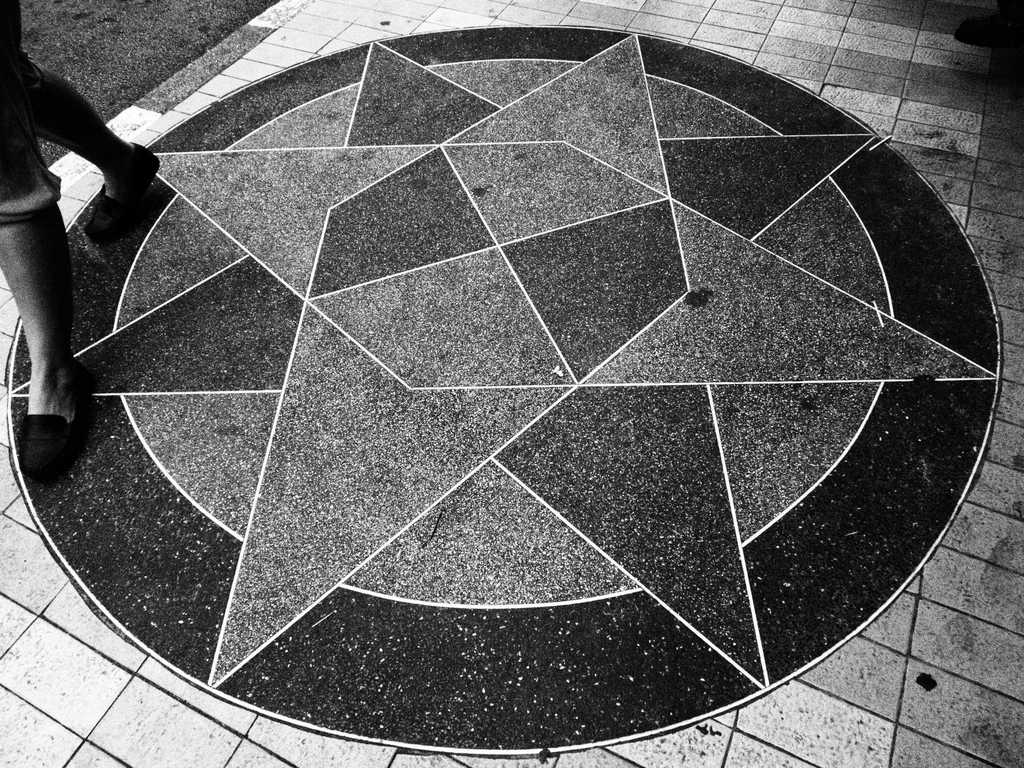person: (0, 2, 173, 458)
